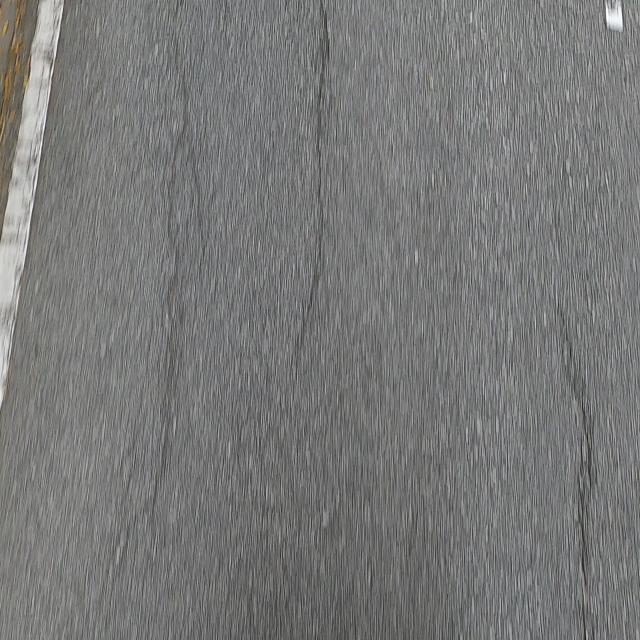Retak-Memanjang: (149, 53, 190, 519), (292, 0, 333, 397), (559, 313, 597, 632)
